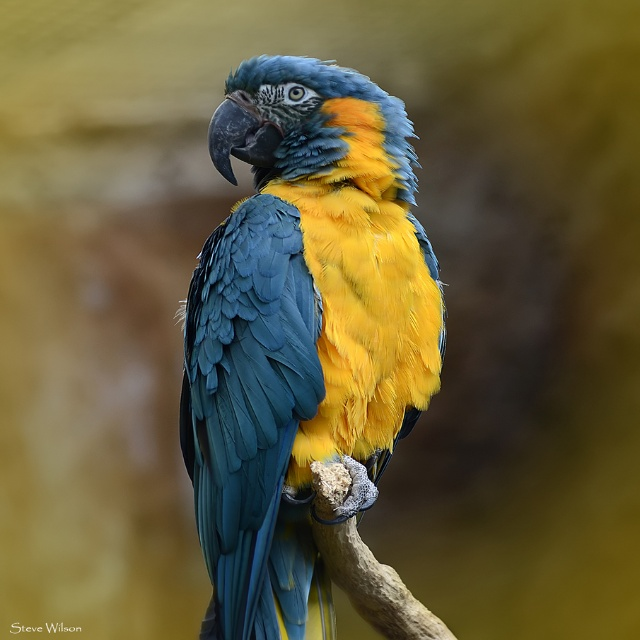Parrot: (176, 52, 450, 640)
